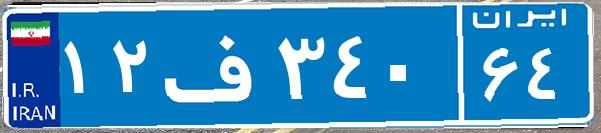0: (385, 28, 445, 110)
1: (57, 26, 110, 107)
2: (110, 28, 158, 105)
3: (273, 28, 330, 110)
4: (330, 28, 385, 110), (525, 38, 570, 115)
6: (475, 38, 525, 113)
ف: (158, 15, 273, 115)
